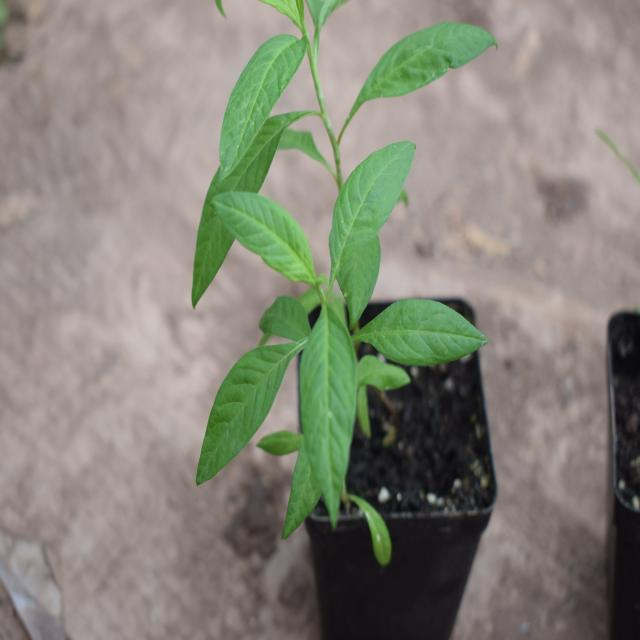white_smart_weed: (146, 146, 471, 567)
